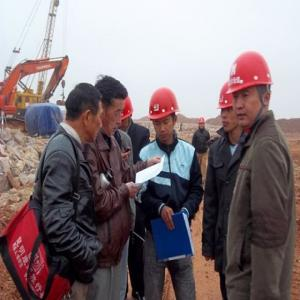none: (63, 85, 103, 147), (96, 77, 125, 139)
red: (230, 55, 273, 128), (149, 84, 178, 143), (217, 83, 237, 133), (117, 95, 134, 132), (199, 116, 206, 130)
